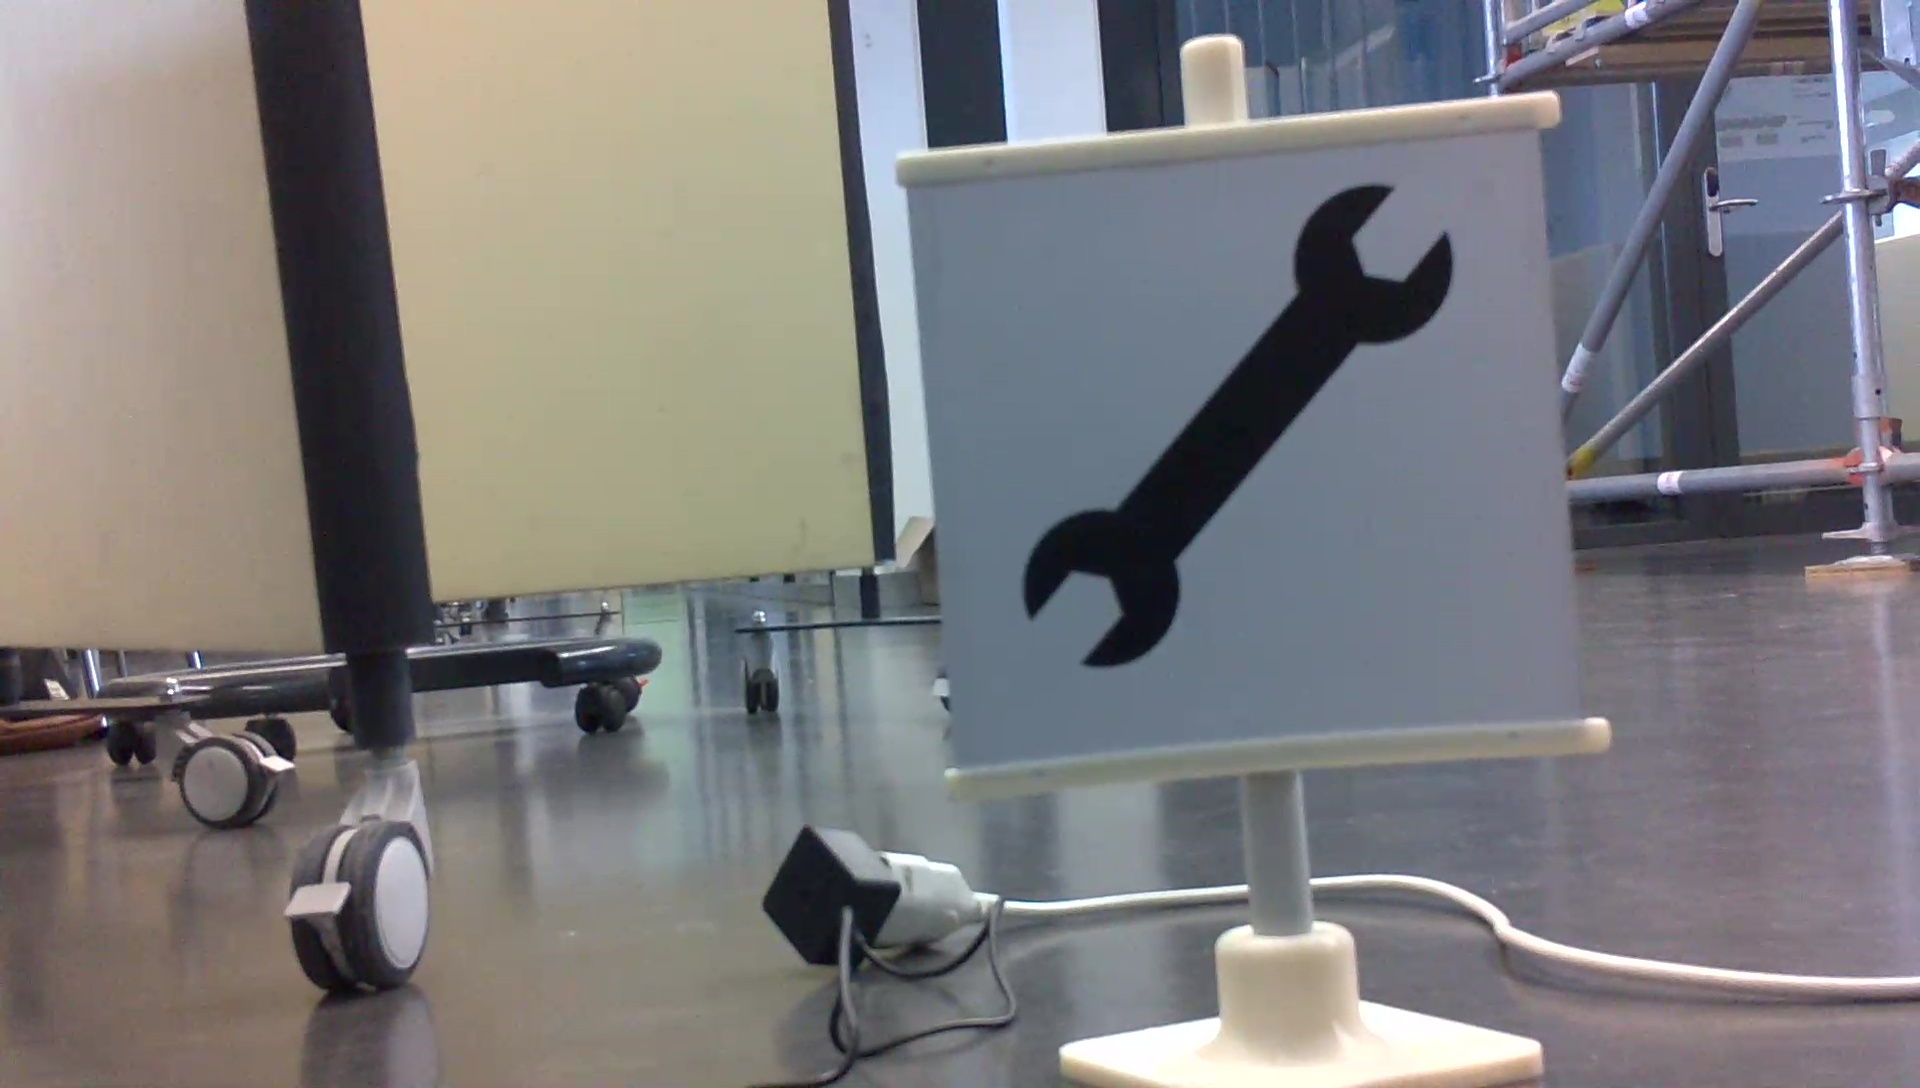wrench: (1005, 173, 1462, 698)
